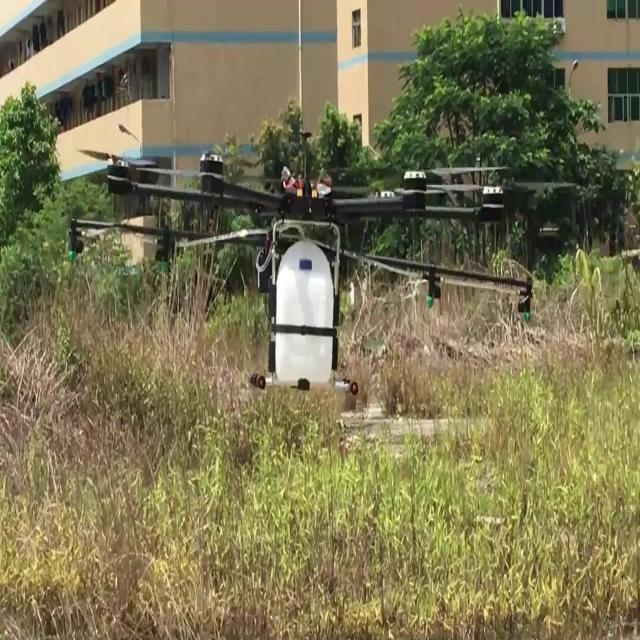drone: (69, 144, 538, 399)
